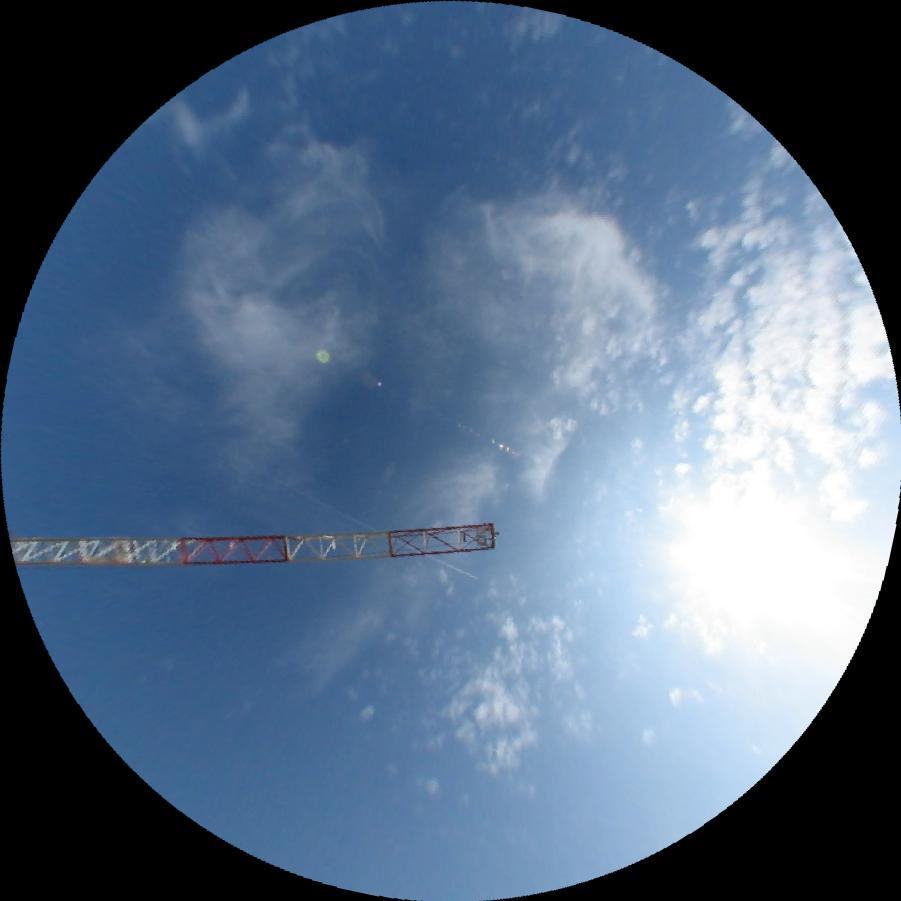contrail young: (225, 451, 477, 582)
sun: (670, 498, 889, 679)
